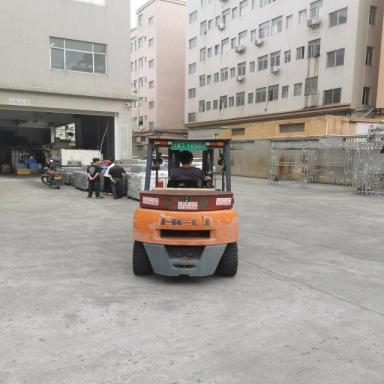forklift: (133, 134, 240, 282)
